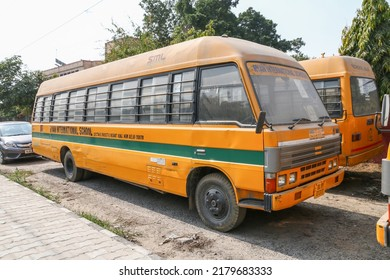bus: (31, 35, 343, 233)
car: (1, 120, 41, 164)
